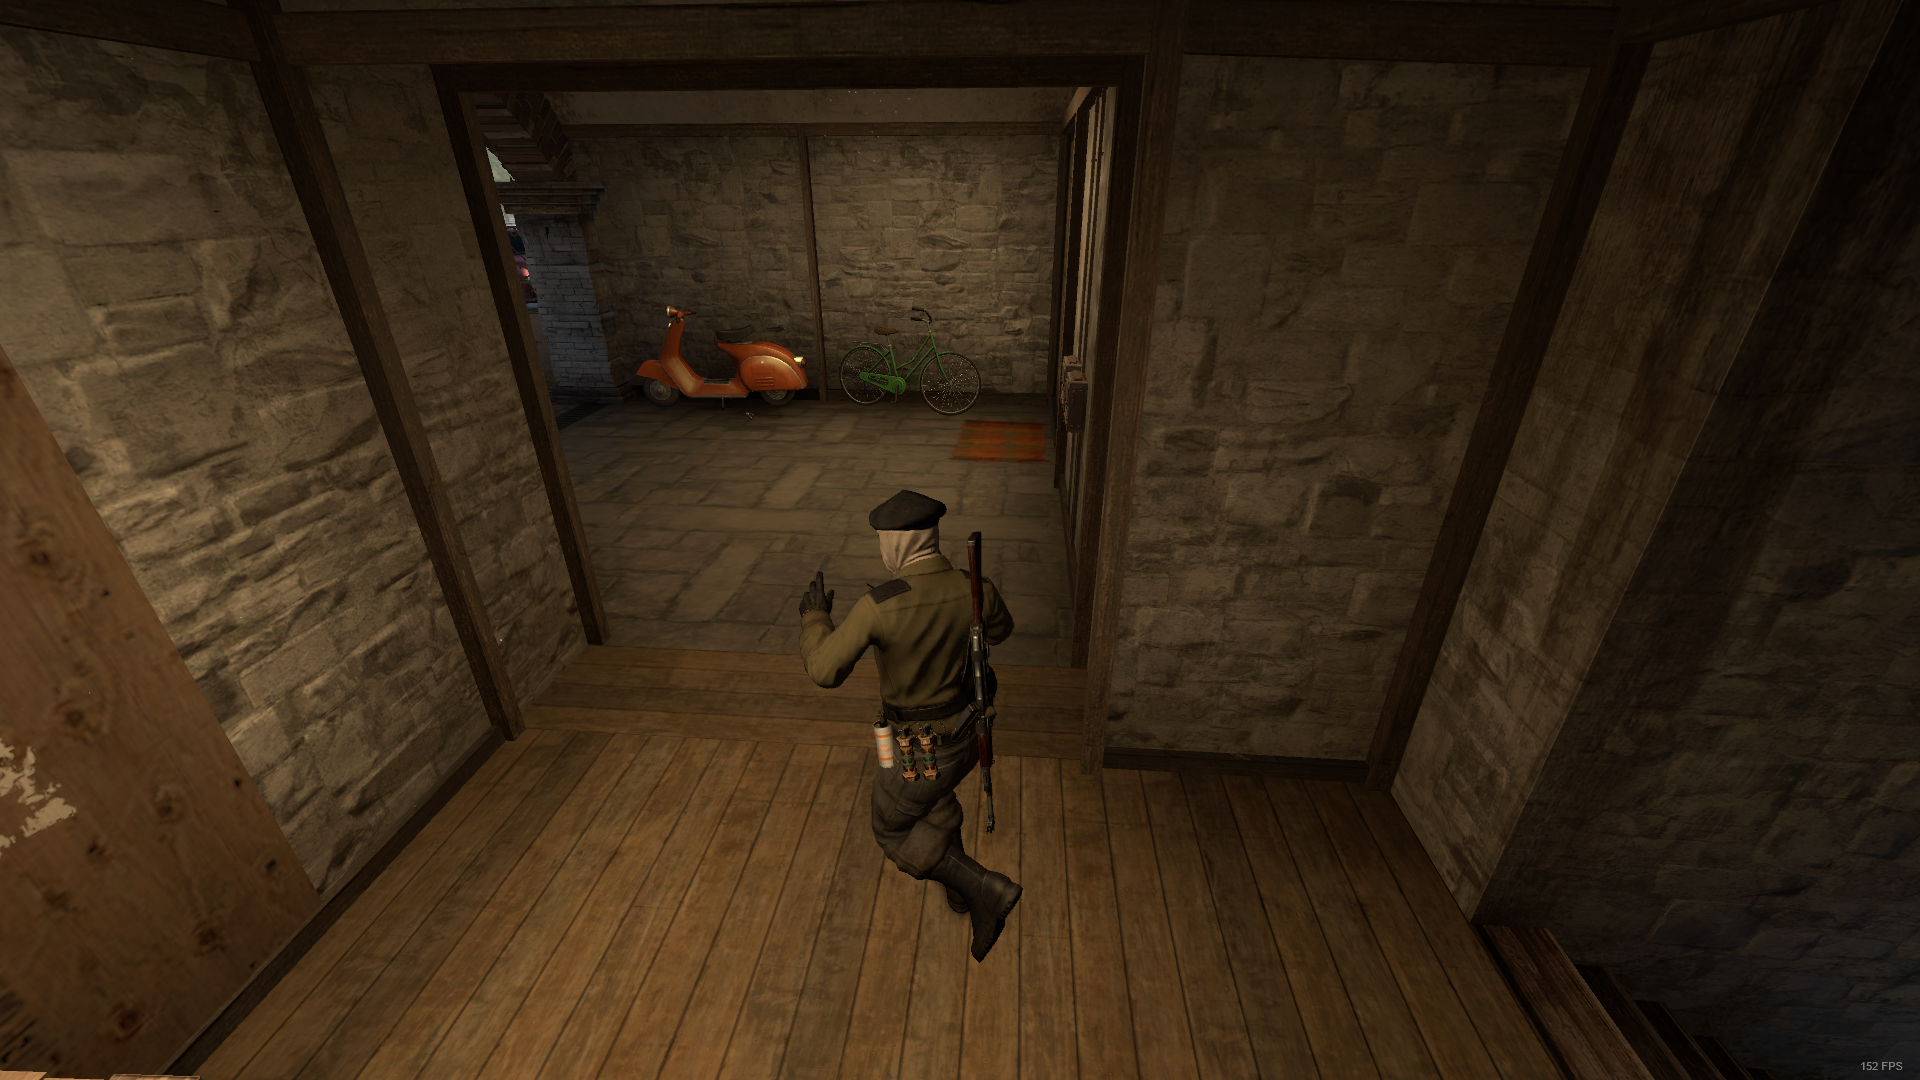t: (800, 488, 1025, 967)
